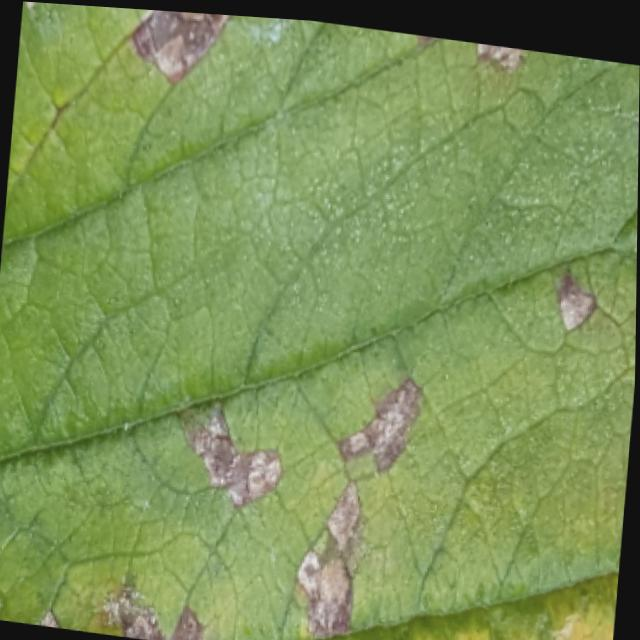Angular Leafspot: (0, 1, 637, 640)
